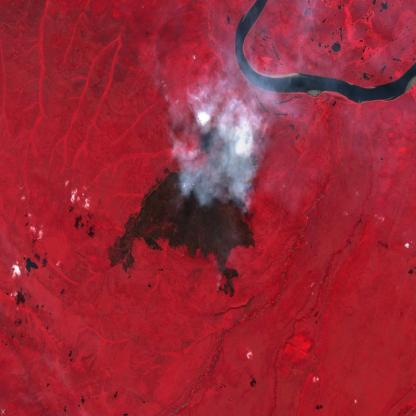fire: (197, 106, 265, 226)
